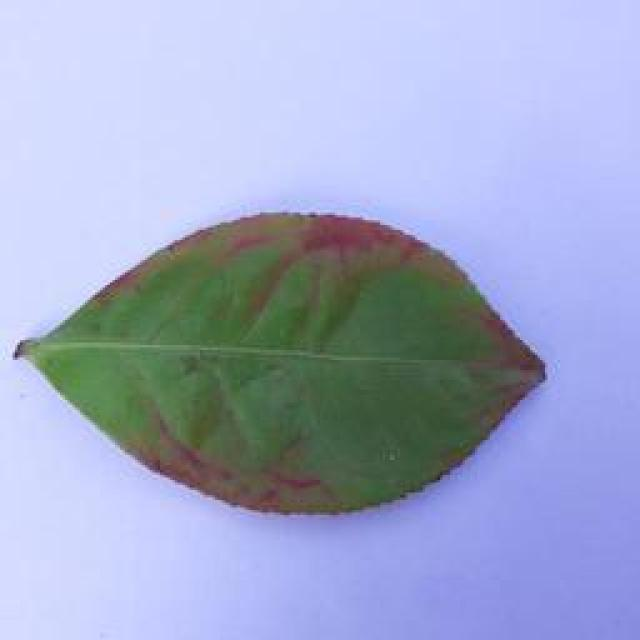Red Leaf Spot: (6, 205, 551, 515)
